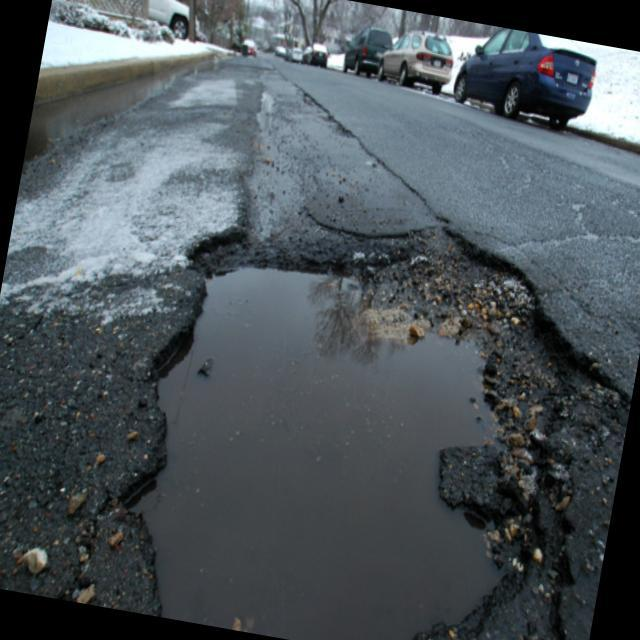Pothole: (98, 213, 594, 640)
